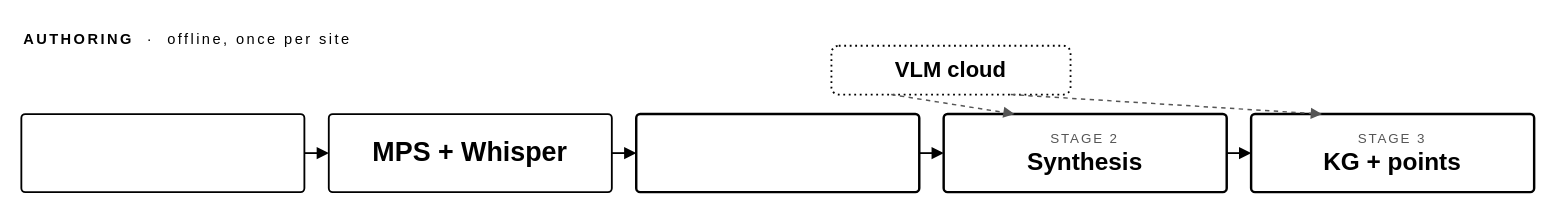
Some shapes in this 1557 by 214 pixel diagram are drawn without their labels. Here are the shapes that lost their labels. From the top down, the centre of each, then its label:
At pixel 162 153: "Aria capture".
At pixel 777 152: "STAGE 1 Multimodal".
